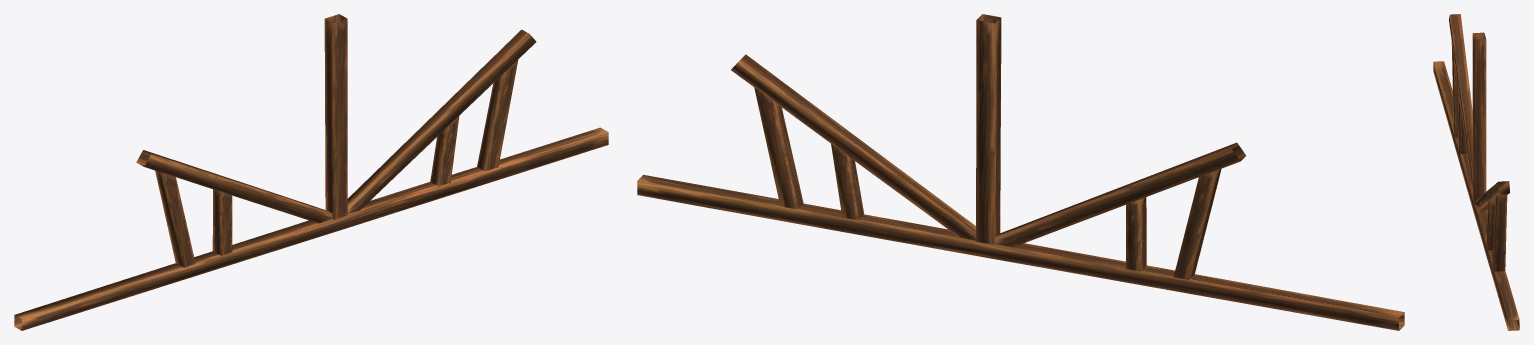
Rendered from SWORDLIGHT20_JAILCEILBRACKET14.fbx.
The picture shows the model from 3 angles, left to right: view 1: azimuth 30°, elevation 25°; view 2: azimuth 150°, elevation 25°; view 3: azimuth 270°, elevation 25°; orthographic projection. The views are drawn at different scales.
Parts seen in each view (by area): view 1: SWORDLIGHT20_JAILCEILBRACKET14; view 2: SWORDLIGHT20_JAILCEILBRACKET14; view 3: SWORDLIGHT20_JAILCEILBRACKET14.
Boxes of the visible parts, x1,y1,x2,y2 form: SWORDLIGHT20_JAILCEILBRACKET14: (14, 14, 608, 330); SWORDLIGHT20_JAILCEILBRACKET14: (637, 14, 1404, 330); SWORDLIGHT20_JAILCEILBRACKET14: (1433, 14, 1519, 330).
Size of the model in its own units: 157094 by 49666 by 22110.
1 material, 1 textured.
